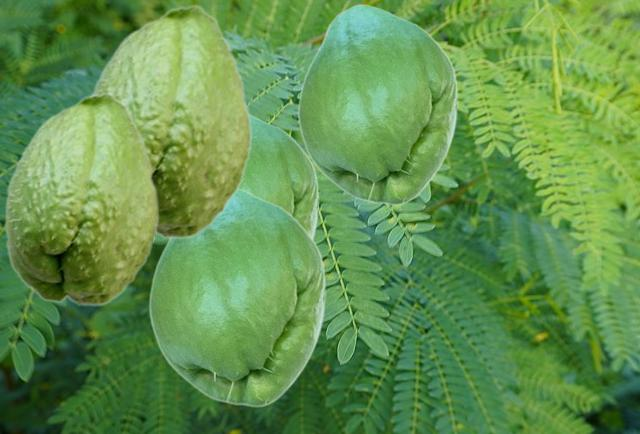sayote: (148, 187, 325, 407), (90, 3, 252, 239), (4, 91, 159, 306), (297, 4, 457, 205), (241, 113, 318, 238)
